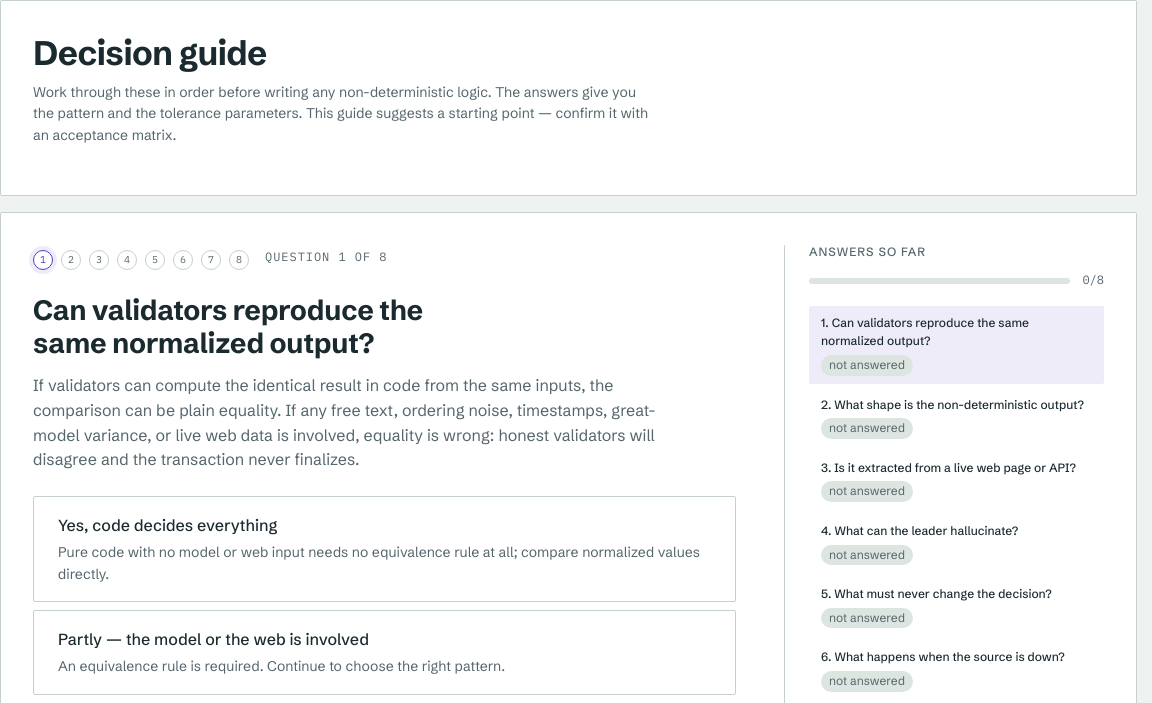
Test: Decision guide screen › allows stepping back and shows the earlier question again
Click the button "Partly — the model or the web" at (214, 639), box left=33, top=610, right=736, bottom=695
(page scrolled)
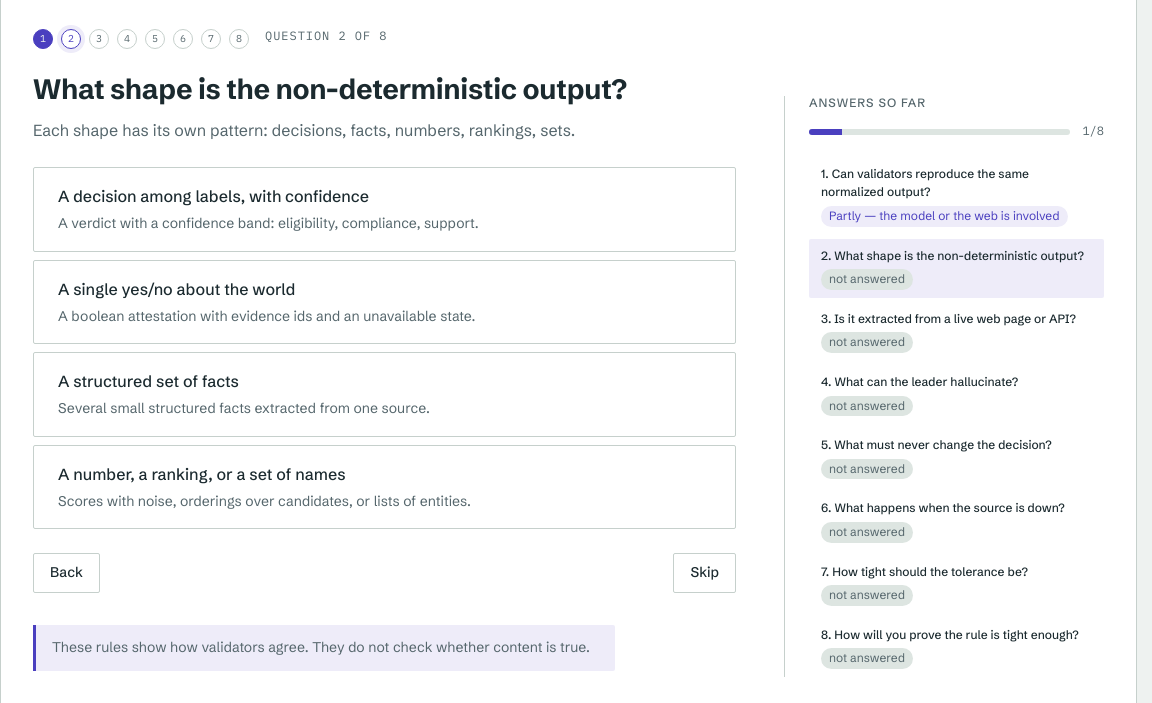
Expected: the text "Question 2 of 8" is shown, left=265, top=27, right=387, bottom=46
Click the button "Back" at (66, 573), box left=33, top=553, right=100, bottom=593
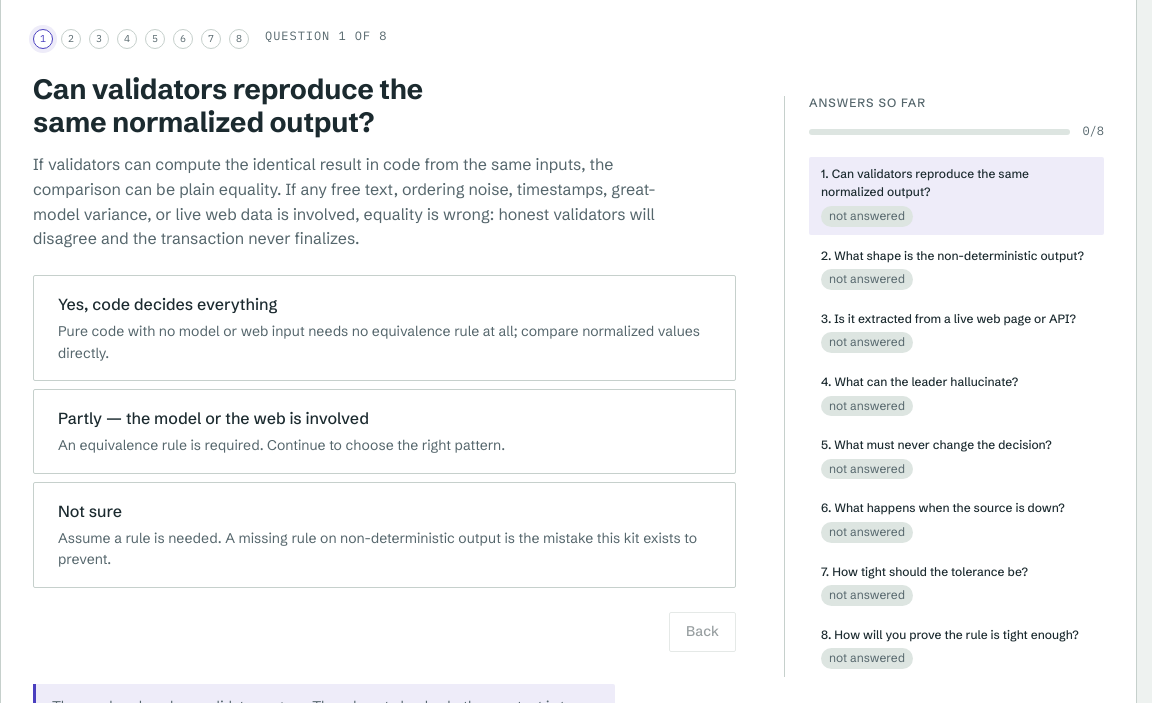
Expected: the text "Question 1 of 8" is shown, left=265, top=27, right=387, bottom=46
